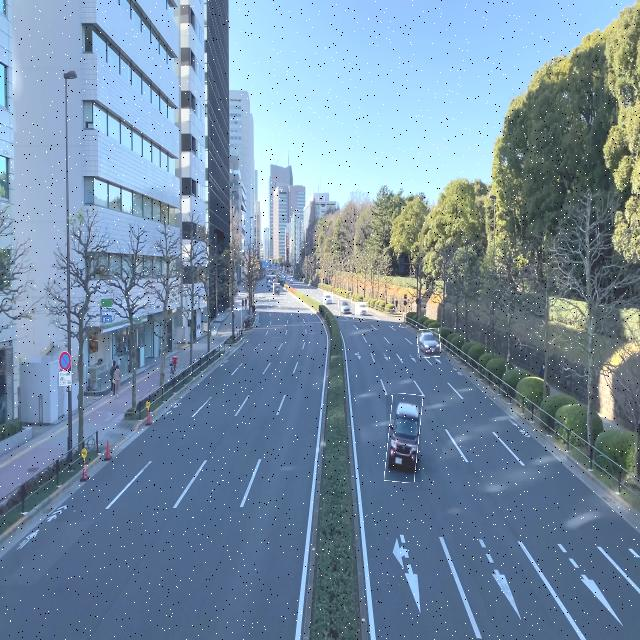Car: (386, 394, 421, 482), (417, 329, 441, 357), (339, 300, 352, 316), (355, 302, 368, 315), (323, 292, 333, 305), (273, 283, 280, 296)
